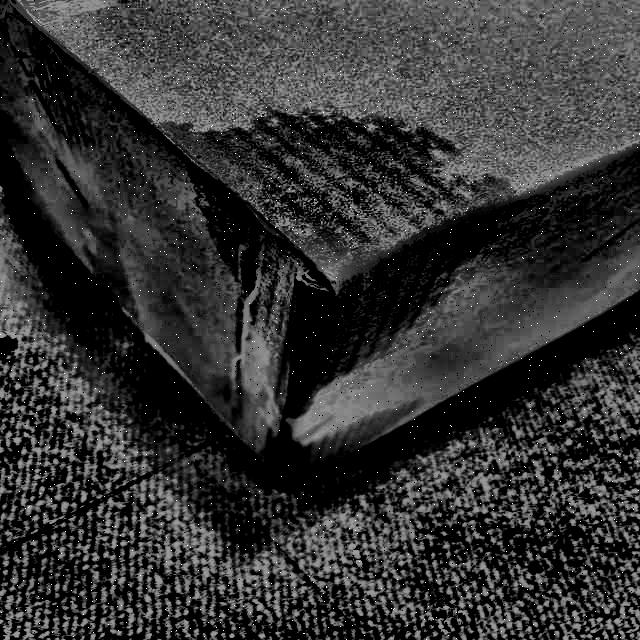box: (0, 0, 640, 502)
wet: (163, 107, 519, 408)
